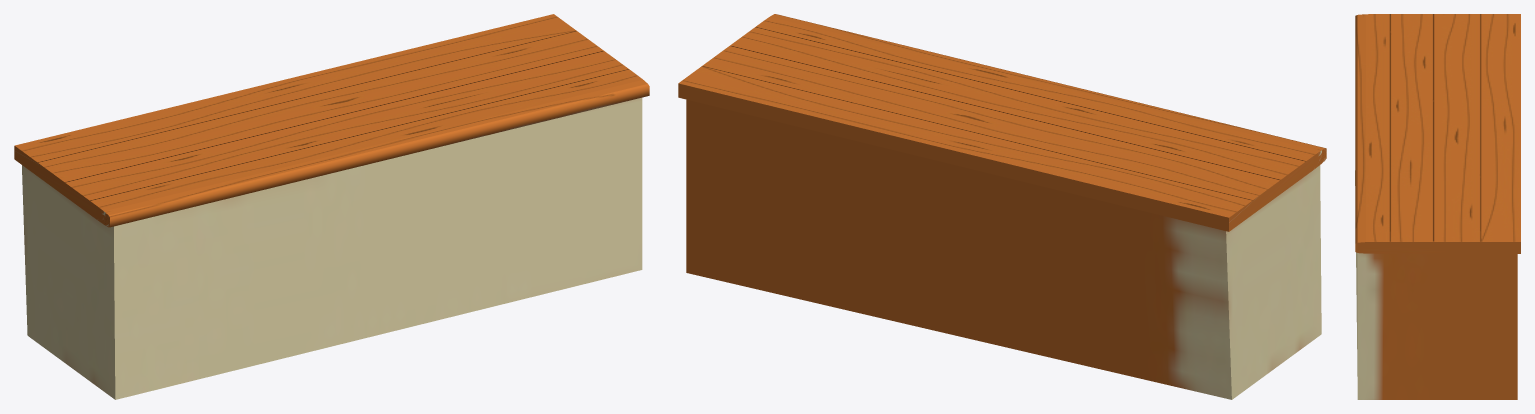
The model's file is mesa_skins.FBX.
3 renders of one model, left to right at view 1: azimuth 30°, elevation 25°; view 2: azimuth 150°, elevation 25°; view 3: azimuth 270°, elevation 25°, orthographic. The views are drawn at different scales.
Parts seen in each view (by area): view 1: Box968, Object039; view 2: Box968, Object039; view 3: Object039, Box968.
Boxes of the visible parts, x1=… form: Box968: x1=22, y1=97, x2=642, y2=399; Object039: x1=14, y1=14, x2=649, y2=227; Box968: x1=686, y1=99, x2=1321, y2=399; Object039: x1=678, y1=14, x2=1326, y2=231; Object039: x1=1355, y1=14, x2=1520, y2=253; Box968: x1=1355, y1=170, x2=1517, y2=399.
Size of the model in its own units: 20.74 by 6.82 by 6.38.
Materials: 1 (1 with a texture image).
